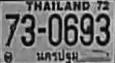0: (48, 13, 61, 45)
3: (95, 12, 109, 45), (20, 13, 34, 45)
6: (64, 13, 77, 45)
7: (4, 13, 19, 46)
9: (79, 13, 93, 44)
NPT: (32, 47, 80, 63)
